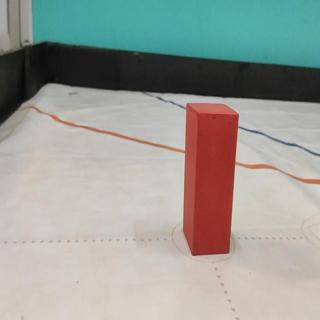redbox: (185, 103, 240, 257)
